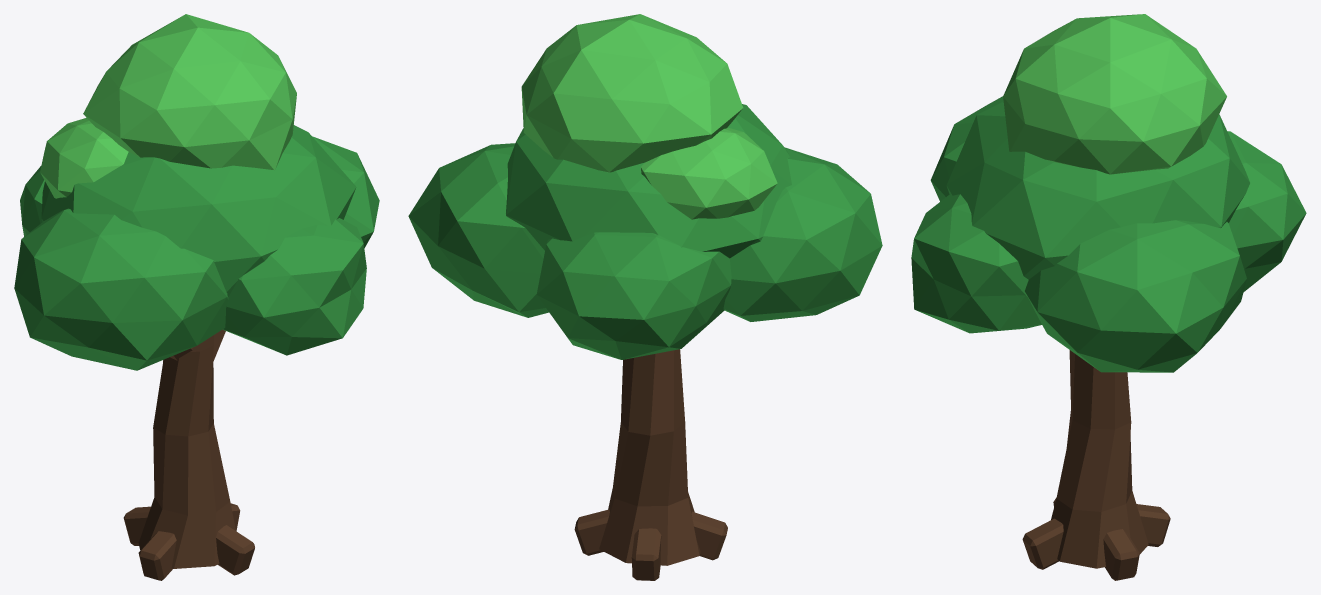
Rendered from EM_OakTree_Hero.glb.
3 views of the same model, side by side, from view 1: azimuth 30°, elevation 25°; view 2: azimuth 150°, elevation 25°; view 3: azimuth 270°, elevation 25° (orthographic). The views are drawn at different scales.
Visible parts, largest first — view 1: EM_OakTree_Hero__LeafOak, EM_OakTree_Hero__LeafOakHi, EM_OakTree_Hero__BarkOak; view 2: EM_OakTree_Hero__LeafOak, EM_OakTree_Hero__LeafOakHi, EM_OakTree_Hero__BarkOak; view 3: EM_OakTree_Hero__LeafOak, EM_OakTree_Hero__LeafOakHi, EM_OakTree_Hero__BarkOak.
Boxes of the visible parts, x1,y1,x2,y2 form: EM_OakTree_Hero__LeafOak: [14, 125, 379, 370]; EM_OakTree_Hero__LeafOakHi: [40, 14, 296, 198]; EM_OakTree_Hero__BarkOak: [123, 329, 254, 580]; EM_OakTree_Hero__LeafOak: [408, 104, 882, 359]; EM_OakTree_Hero__LeafOakHi: [521, 14, 777, 219]; EM_OakTree_Hero__BarkOak: [574, 349, 727, 580]; EM_OakTree_Hero__LeafOak: [911, 96, 1306, 372]; EM_OakTree_Hero__LeafOakHi: [1003, 14, 1226, 174]; EM_OakTree_Hero__BarkOak: [1022, 350, 1170, 580].
Size of the model in its own units: 20.42 by 26.52 by 17.44.
